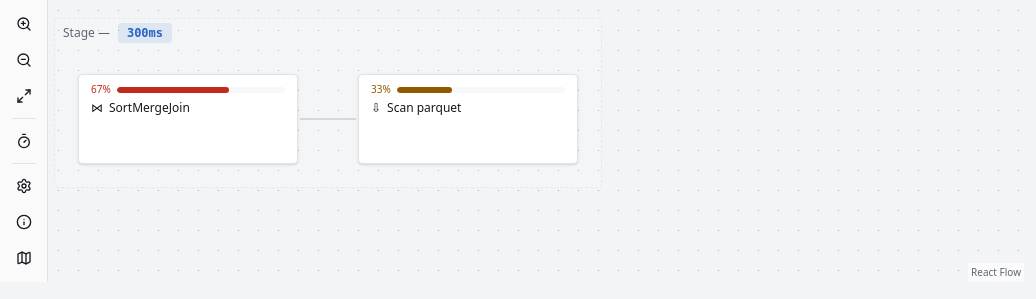
Test case: legend › is collapsed by default and opens on click
The image size is (1036, 299).
Click the button named "legend" at (24, 222), box [8,206,40,238]
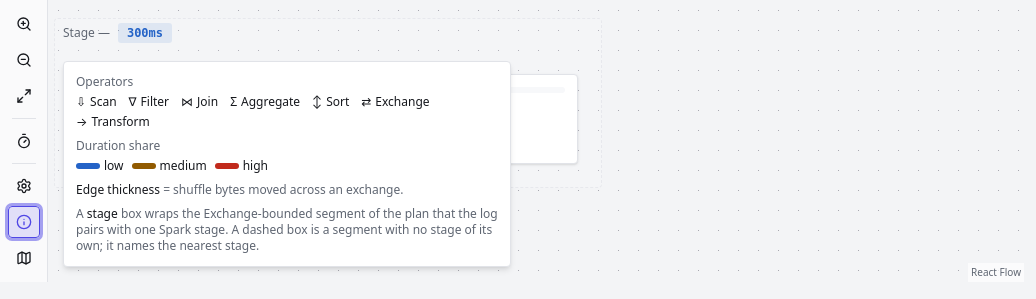
Check: the text "Operators" is shown, box [76,73,133,90]
Check: the text "Edge thickness = shuffle bytes moved across an exchange." is shown, box [76,181,404,198]
Click the button named "hide legend" at (24, 222), box [8,206,40,238]
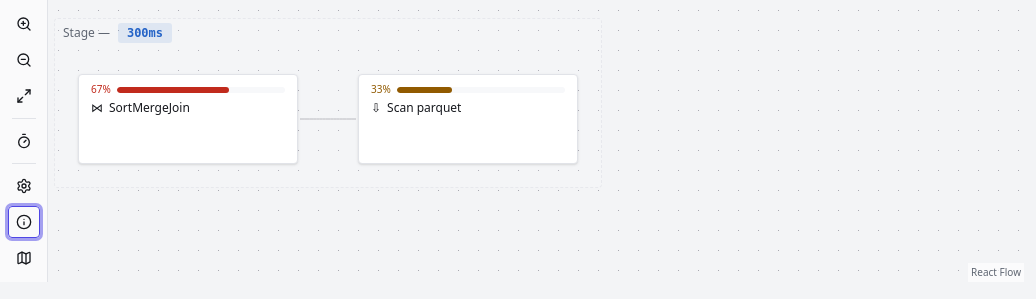
Check: the element with test id "plan-graph-legend" is gone
